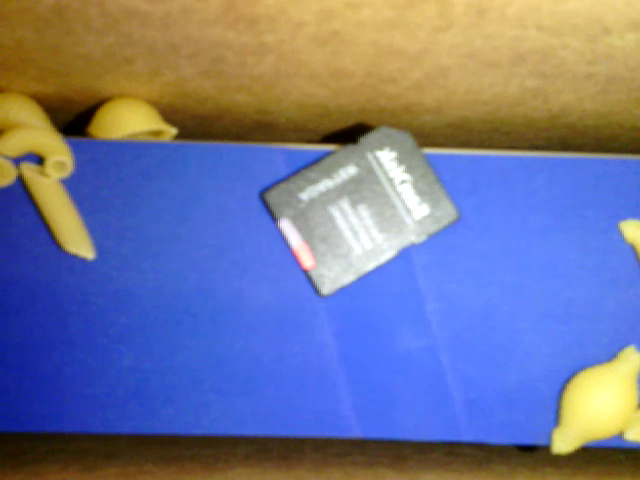elbow: (1, 127, 76, 173), (618, 216, 639, 268)
penne: (22, 164, 98, 261)
shell: (542, 342, 639, 454), (89, 96, 179, 139), (1, 87, 67, 134)
